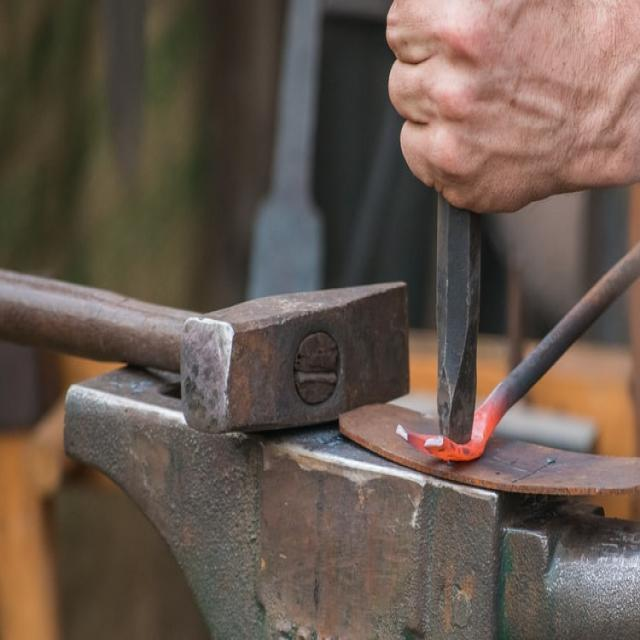hammer: (0, 255, 434, 438)
